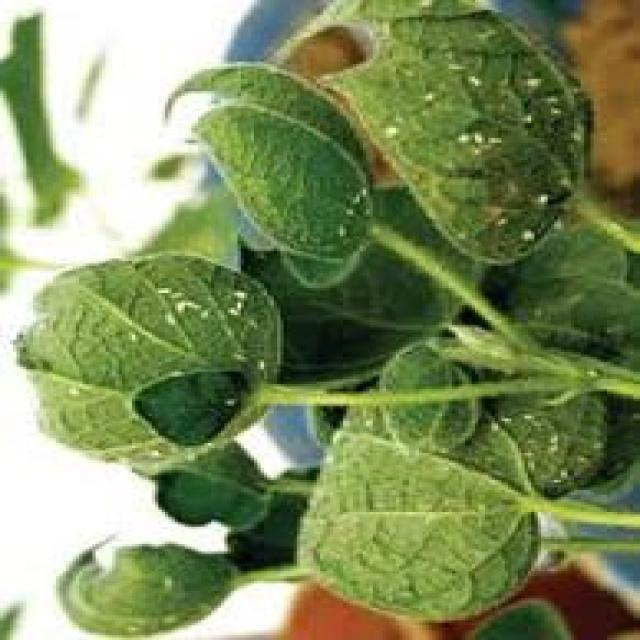Leaf Curl Virus: (152, 51, 618, 500)
